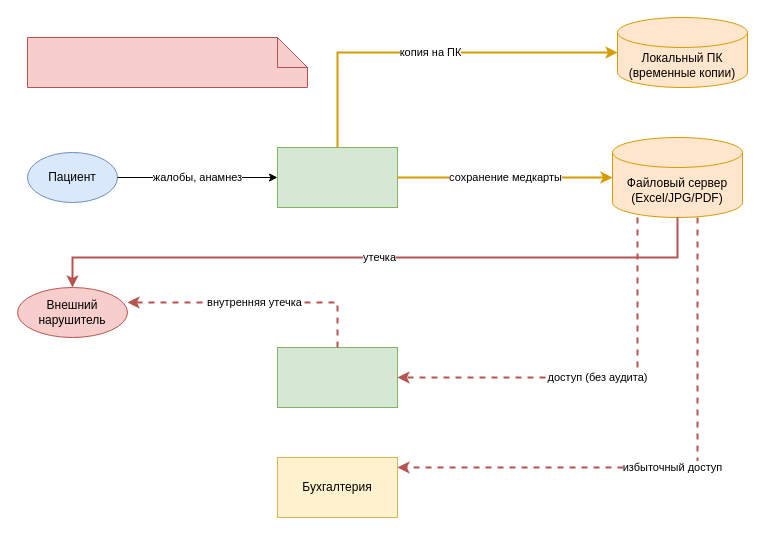
Some shapes in this 765 by 535 pixel diagram are drawn without their labels. The centre of each missing label's shape, as x and y in pixels:
"Мед. специалист" goes at pixel 337 177.
"ПРОБЛЕМЫ: нет шифрования, нет аудита, избыточные права, копии на ПК" goes at pixel 167 62.
"Ресепшен" goes at pixel 337 377.
